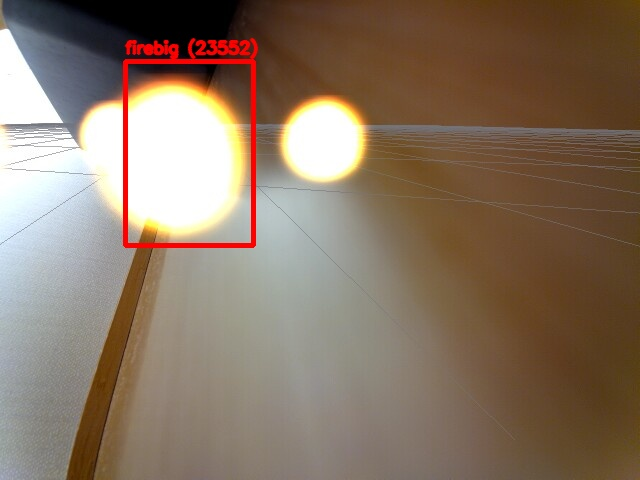firebig: (125, 61, 253, 245)
